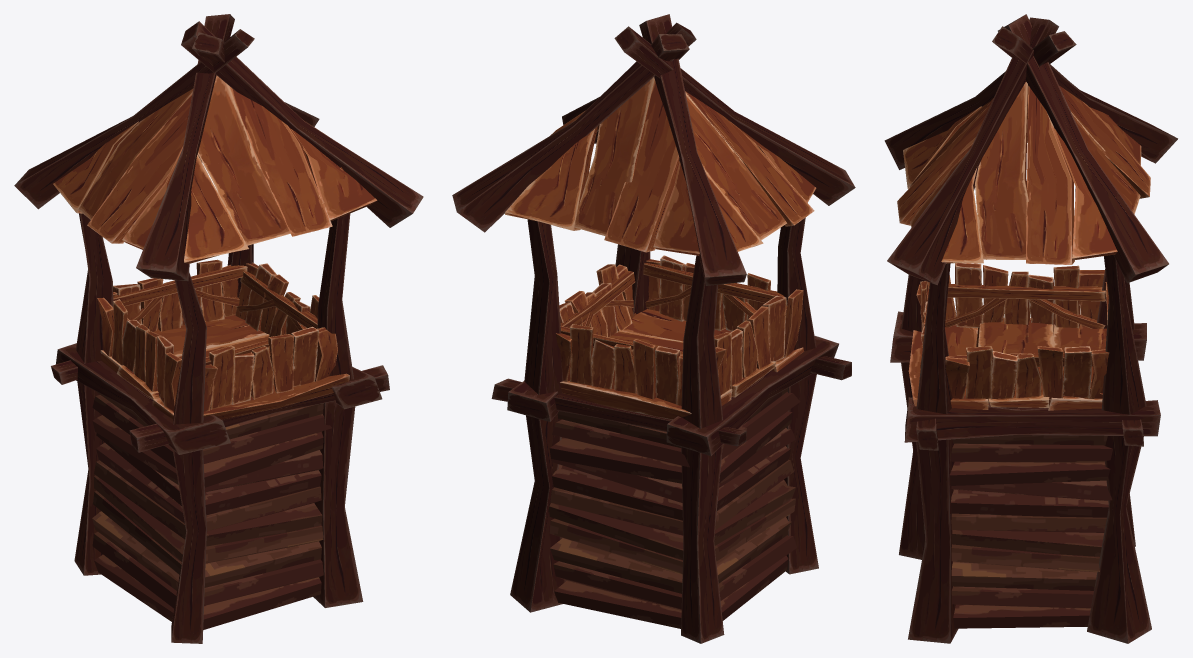
The model's file is SM_PROP_watchtower_wood_02.glb.
The picture shows the model from 3 angles, left to right: view 1: azimuth 30°, elevation 25°; view 2: azimuth 150°, elevation 25°; view 3: azimuth 270°, elevation 25°; orthographic projection. The views are drawn at different scales.
Visible parts, largest first — view 1: SM_PROP_watchtower_wood_02_EXPORT; view 2: SM_PROP_watchtower_wood_02_EXPORT; view 3: SM_PROP_watchtower_wood_02_EXPORT.
Part boxes in pixels (<box>): SM_PROP_watchtower_wood_02_EXPORT: <box>14,14,423,643</box>; SM_PROP_watchtower_wood_02_EXPORT: <box>452,14,855,643</box>; SM_PROP_watchtower_wood_02_EXPORT: <box>884,14,1177,643</box>.
Size of the model in its own units: 7.34 by 13.1 by 6.08.
Materials: 3 (3 with a texture image).
